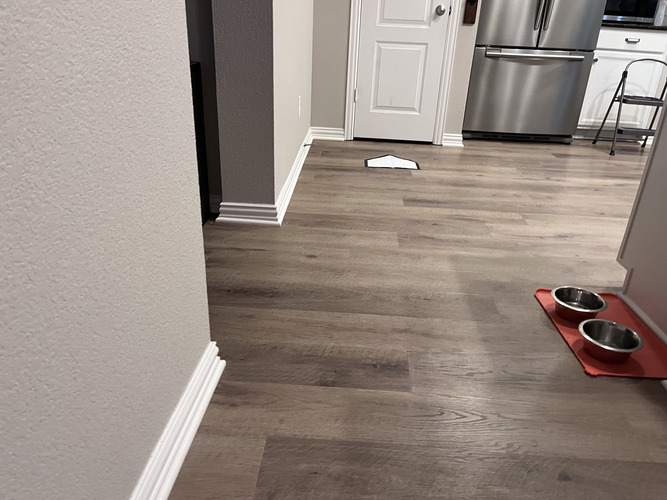homeplate: (364, 153, 419, 171)
